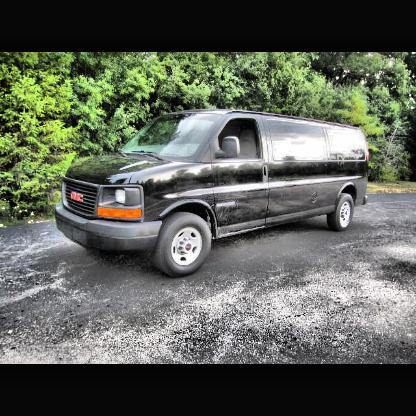GMC Savana Van 2012: (55, 109, 371, 279)
